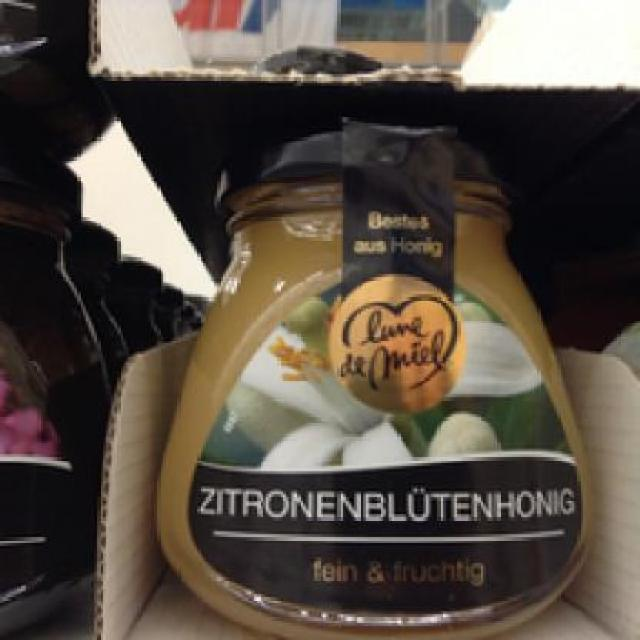Honey: (143, 123, 600, 626)
